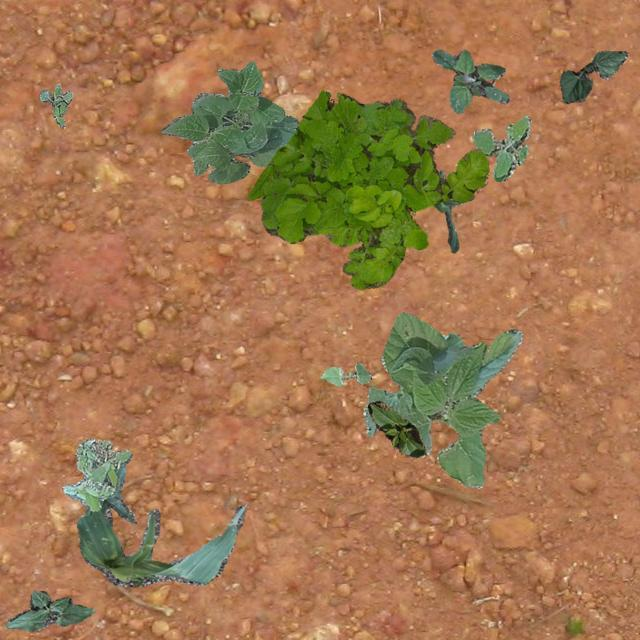crop: (362, 312, 522, 486), (76, 464, 246, 586), (160, 61, 298, 182), (558, 49, 628, 102), (5, 590, 94, 630), (366, 399, 424, 456), (432, 168, 466, 252), (320, 362, 370, 384)
weed: (245, 90, 488, 288), (61, 438, 130, 510), (431, 49, 508, 112), (470, 114, 530, 180), (38, 82, 72, 126)
